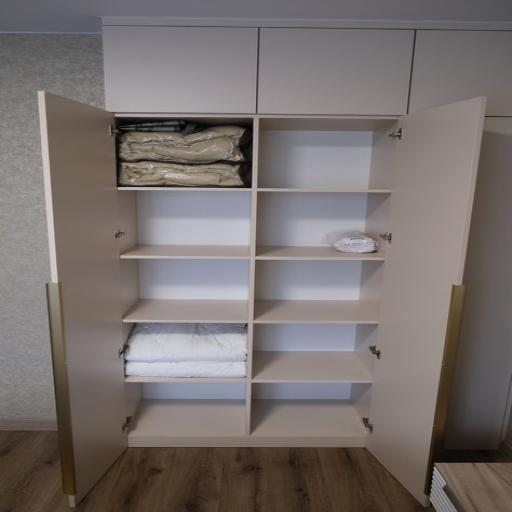car: (42, 94, 484, 502)
